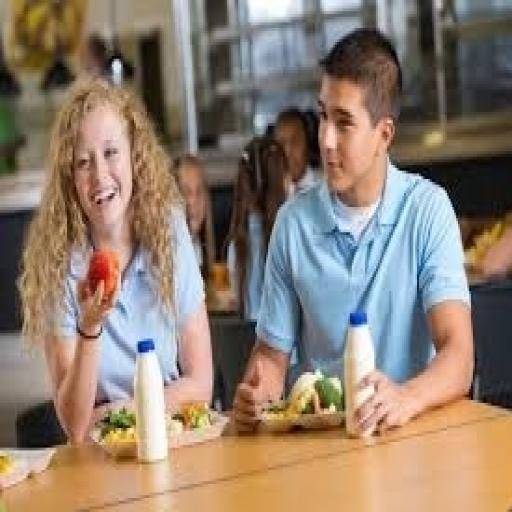eating: (229, 25, 477, 439), (15, 73, 216, 445)
